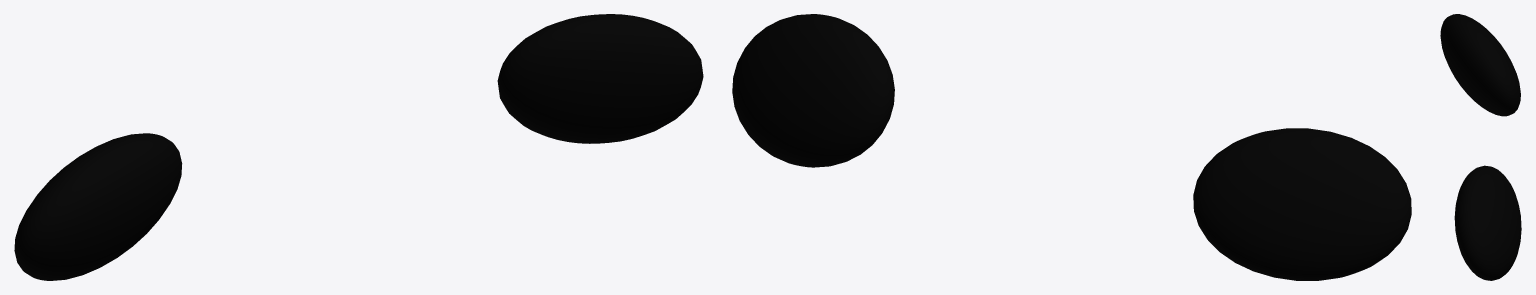
Rendered from kyuutai_eyes.fbx.
3 views of the same model, side by side, from view 1: azimuth 30°, elevation 25°; view 2: azimuth 150°, elevation 25°; view 3: azimuth 270°, elevation 25° (orthographic). The views are drawn at different scales.
Visible parts, largest first — view 1: 球.008, 球.009; view 2: 球.009, 球.008; view 3: 球.008, 球.009.
Part boxes in pixels (bbox=[...]): 球.008: bbox=[497, 14, 703, 143]; 球.009: bbox=[14, 133, 182, 280]; 球.009: bbox=[1193, 128, 1411, 280]; 球.008: bbox=[732, 14, 894, 167]; 球.008: bbox=[1454, 165, 1521, 280]; 球.009: bbox=[1440, 14, 1520, 116].
Bounding box in the file's own units: 21.99 × 139 × 27.14.
